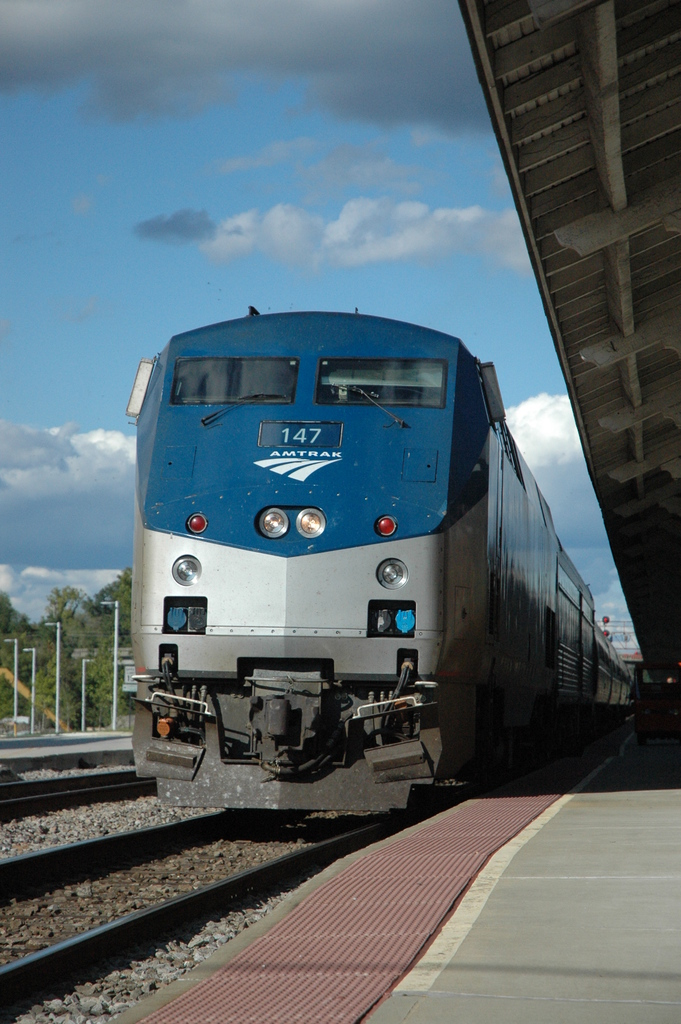train: (133, 311, 637, 819)
